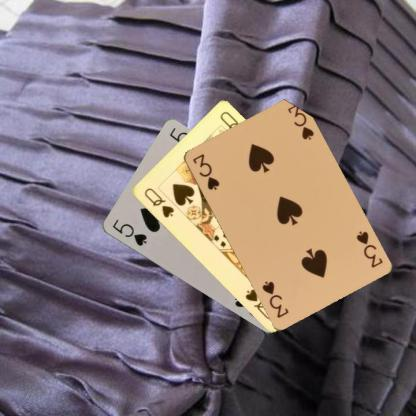3s: (353, 228, 384, 270), (190, 151, 221, 192)
5s: (109, 217, 148, 248)
Qs: (141, 185, 175, 219)
